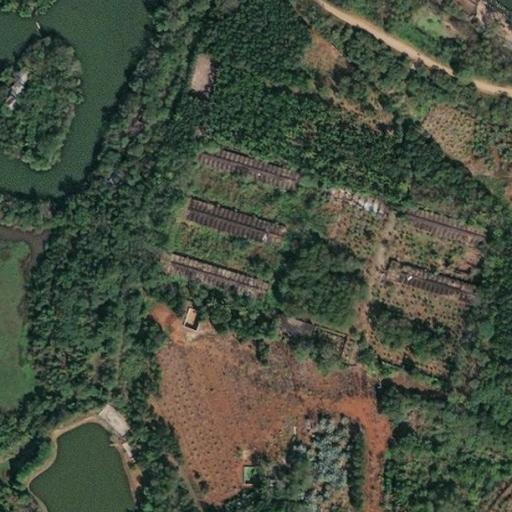building: (161, 245, 271, 302), (180, 190, 283, 249), (195, 138, 300, 193), (94, 397, 135, 438), (261, 312, 302, 341), (254, 472, 274, 483), (247, 469, 255, 488), (264, 487, 275, 498)
